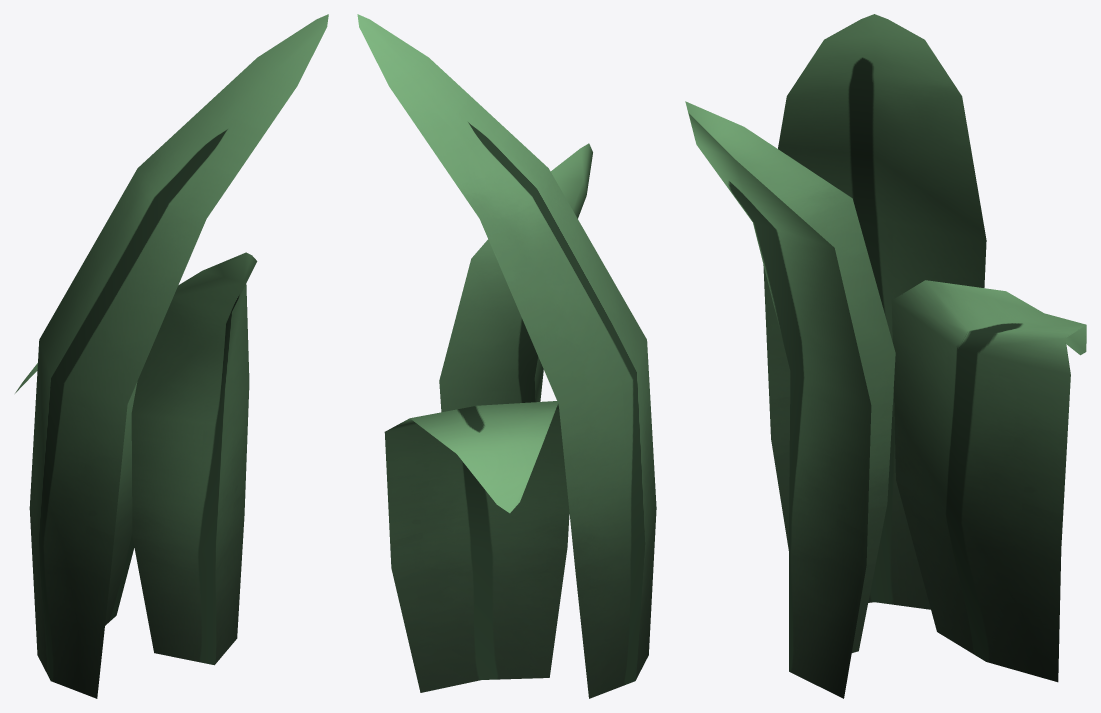
File: cesped_3_v2.fbx
3 renders of one model, left to right at view 1: azimuth 30°, elevation 25°; view 2: azimuth 150°, elevation 25°; view 3: azimuth 270°, elevation 25°, orthographic. The views are drawn at different scales.
Parts seen in each view (by area): view 1: cesped_3_v2; view 2: cesped_3_v2; view 3: cesped_3_v2.
Boxes of the visible parts, x1,y1,x2,y2 form: cesped_3_v2: (15, 14, 328, 698); cesped_3_v2: (357, 14, 656, 698); cesped_3_v2: (685, 14, 1086, 698).
Bounding box in the file's own units: 4.72 × 4.96 × 9.87.
